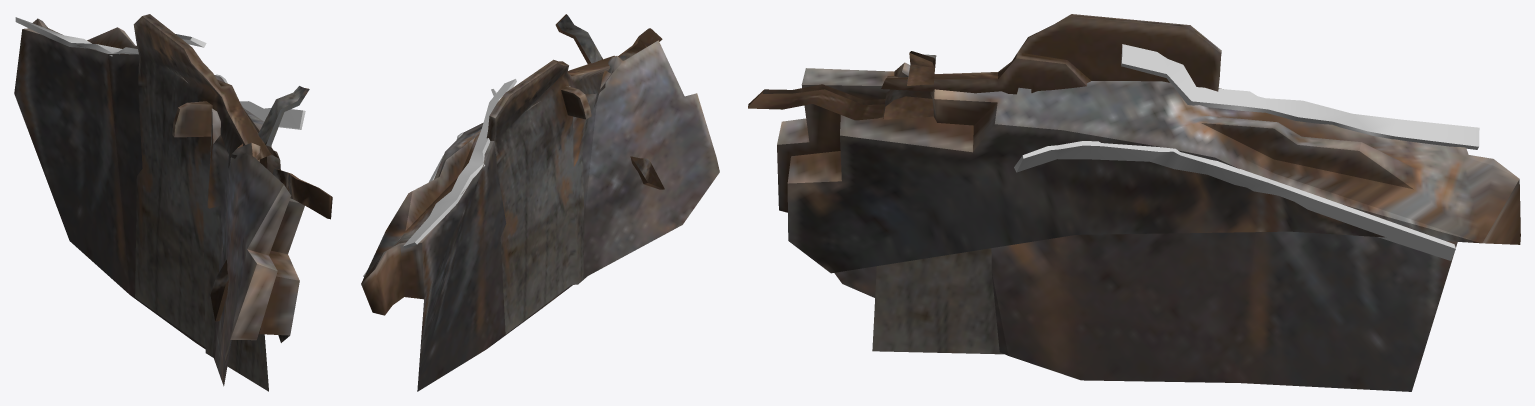
Rendered from plane_wreckage_debris_07.dae.
3 renders of one model, left to right at view 1: azimuth 30°, elevation 25°; view 2: azimuth 150°, elevation 25°; view 3: azimuth 270°, elevation 25°, orthographic. The views are drawn at different scales.
Visible parts, largest first — view 1: pasted__plane_wreckage_wing8, pasted__plane_wreckage_wing9, pasted__polySurface58, pasted__polySurface59, pasted__polySurface60; view 2: pasted__plane_wreckage_wing8, pasted__plane_wreckage_wing9, pasted__polySurface59, pasted__polySurface58; view 3: pasted__plane_wreckage_wing8, pasted__plane_wreckage_wing9, pasted__polySurface60, pasted__polySurface59, pasted__polySurface58.
Part boxes in pixels (box(x1,y1,x2,y2)): pasted__plane_wreckage_wing8: box(14, 18, 304, 386); pasted__plane_wreckage_wing9: box(133, 14, 279, 391); pasted__polySurface58: box(210, 86, 332, 321); pasted__polySurface59: box(15, 17, 206, 56); pasted__polySurface60: box(215, 74, 305, 129); pasted__plane_wreckage_wing8: box(361, 40, 719, 391); pasted__plane_wreckage_wing9: box(486, 55, 614, 333); pasted__polySurface59: box(403, 79, 516, 248); pasted__polySurface58: box(555, 14, 664, 189); pasted__plane_wreckage_wing8: box(777, 62, 1520, 391); pasted__plane_wreckage_wing9: box(872, 14, 1221, 354); pasted__polySurface60: box(1014, 141, 1455, 260); pasted__polySurface59: box(1121, 44, 1479, 149); pasted__polySurface58: box(748, 51, 936, 120).
Bounding box in the file's own units: 56.68 × 91.65 × 177.
